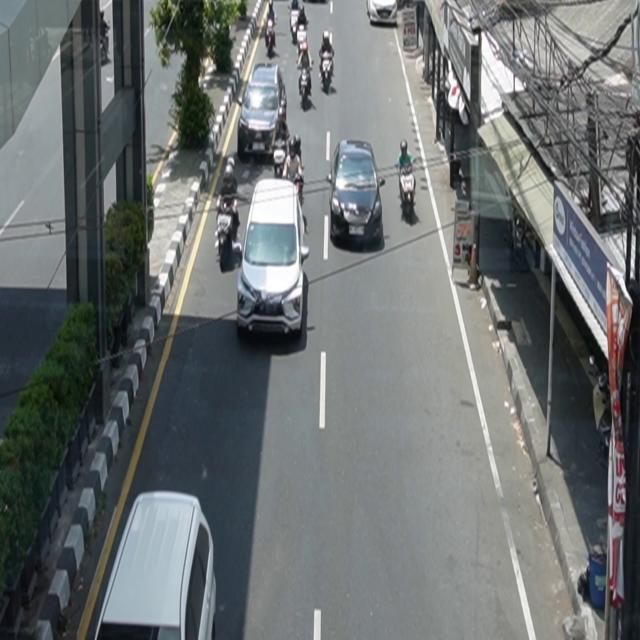car: (93, 491, 218, 640), (237, 179, 311, 340), (327, 139, 386, 246), (366, 1, 398, 26)
